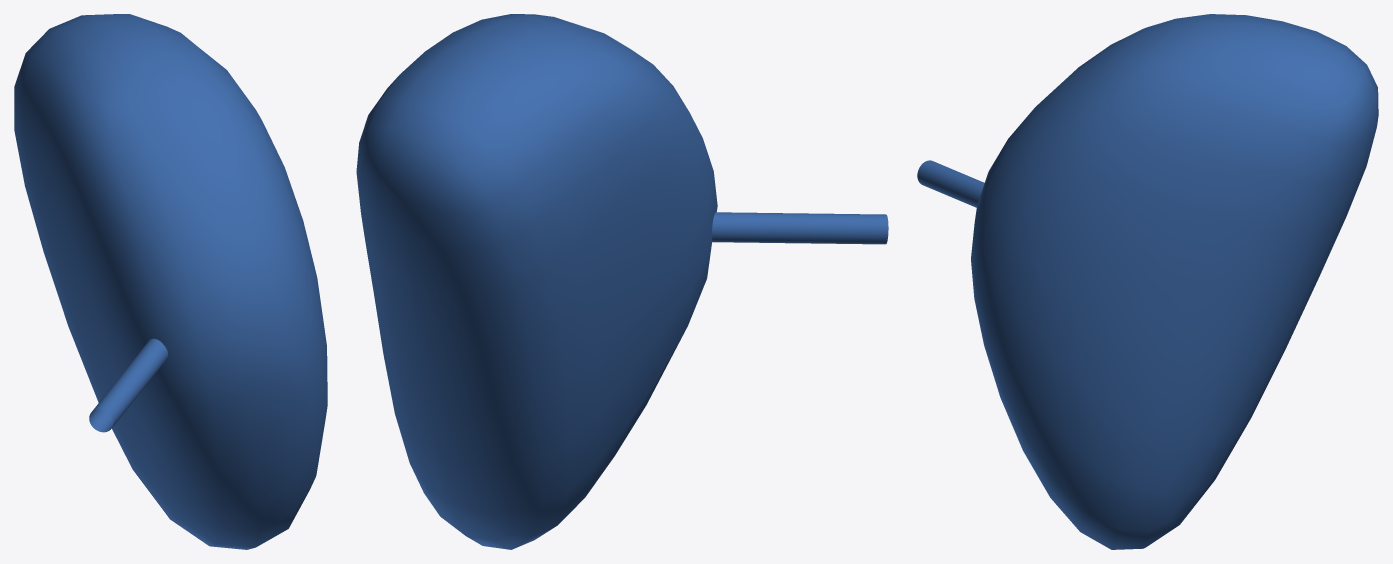
3 renders of one model, left to right at view 1: azimuth 30°, elevation 25°; view 2: azimuth 150°, elevation 25°; view 3: azimuth 270°, elevation 25°, orthographic. The views are drawn at different scales.
Parts seen in each view (by area): view 1: 左侧海绵窦; view 2: 左侧海绵窦; view 3: 左侧海绵窦.
Part boxes in pixels (x1,y1,x2,y2): 左侧海绵窦: [14, 14, 327, 549]; 左侧海绵窦: [356, 14, 888, 549]; 左侧海绵窦: [917, 14, 1378, 549].
Bounding box in the file's own units: 0.0196 × 0.0292 × 0.0248.
